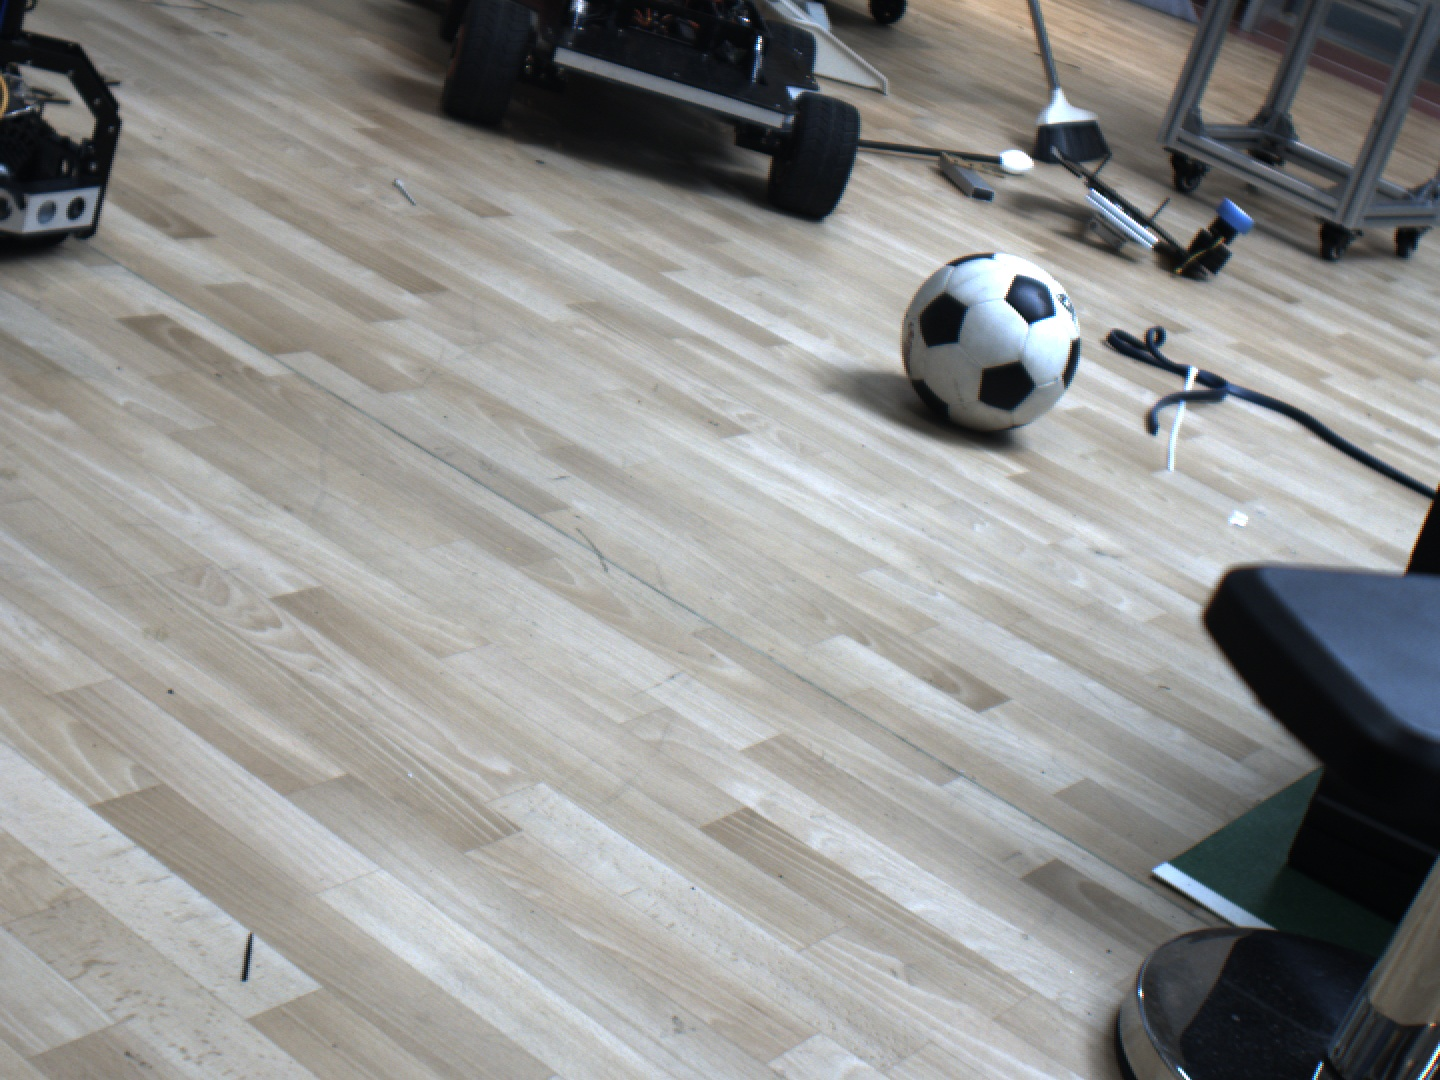ball: (895, 248, 1096, 436)
